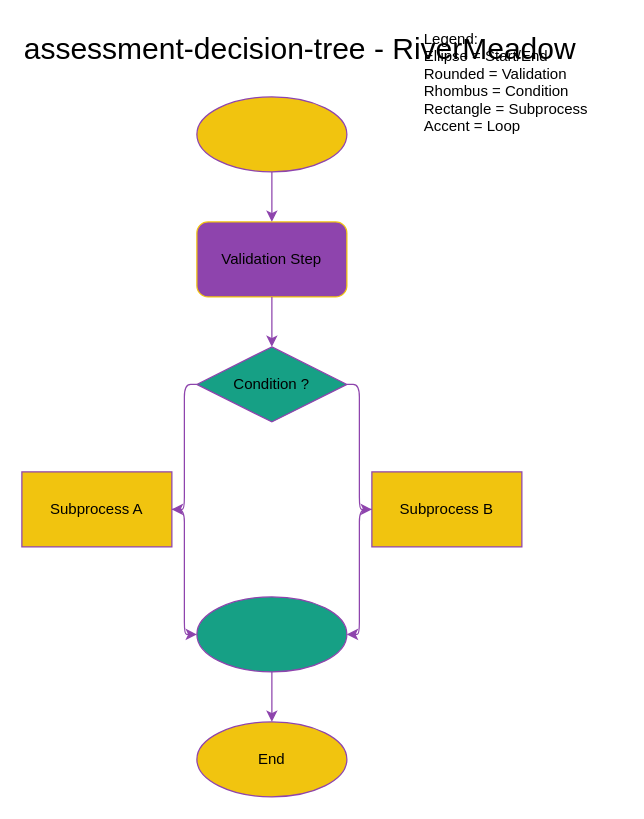
Image size: 644x819. Some labels were removed from this diagram. The centre of each missing label's shape, as x and y in pixels:
"Loop Back" belongs at [271,634].
"Start" belongs at [271,134].
